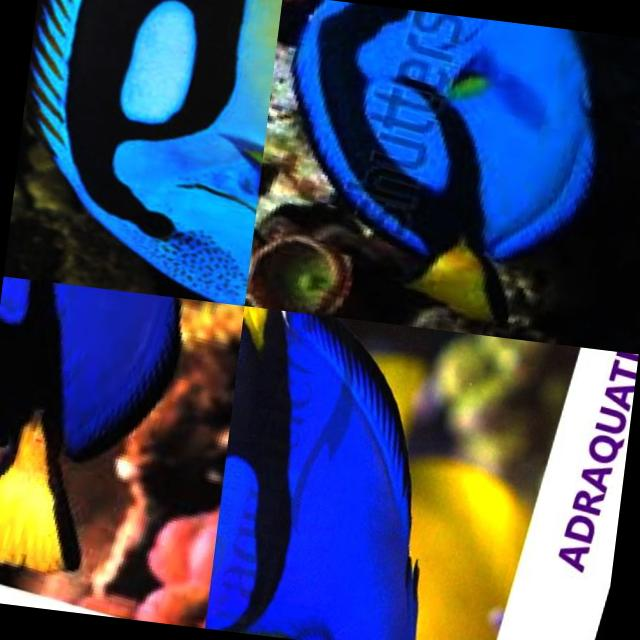BlueTang: (269, 0, 608, 321), (3, 0, 282, 304), (204, 305, 453, 640), (0, 275, 176, 590)
